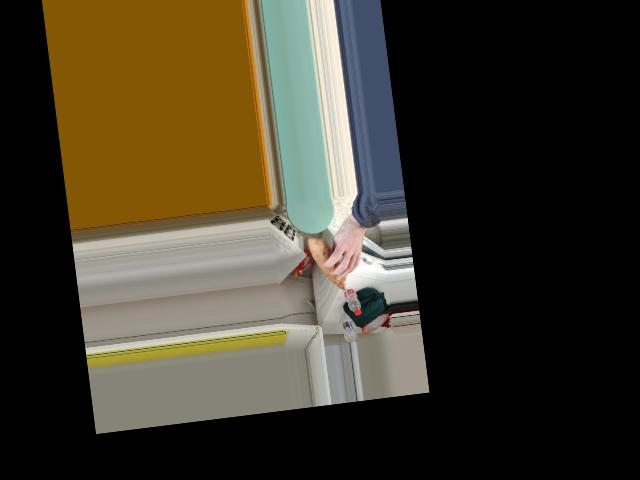sweet_potato: (310, 241, 355, 290)
